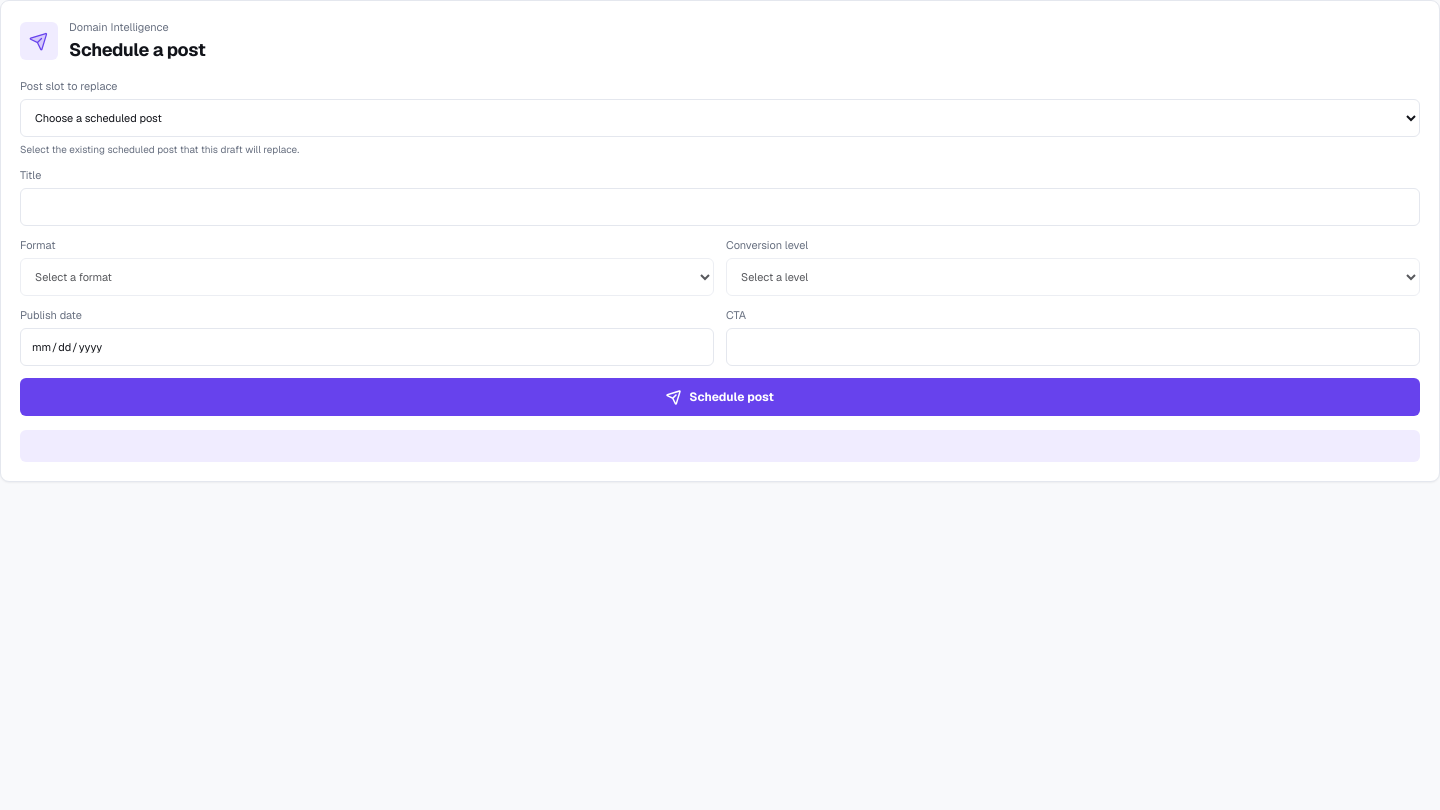
Test case: focuses an enabled recovery status when the final scheduled post becomes published
The image size is (1440, 810).
Select "Cycle 1 · Slot 1 · Aug 22, 2026 · Market Pulse: .com transfer signals" in the dropdown labelled "Post slot to replace" at (720, 118), box left=20, top=99, right=1420, bottom=137
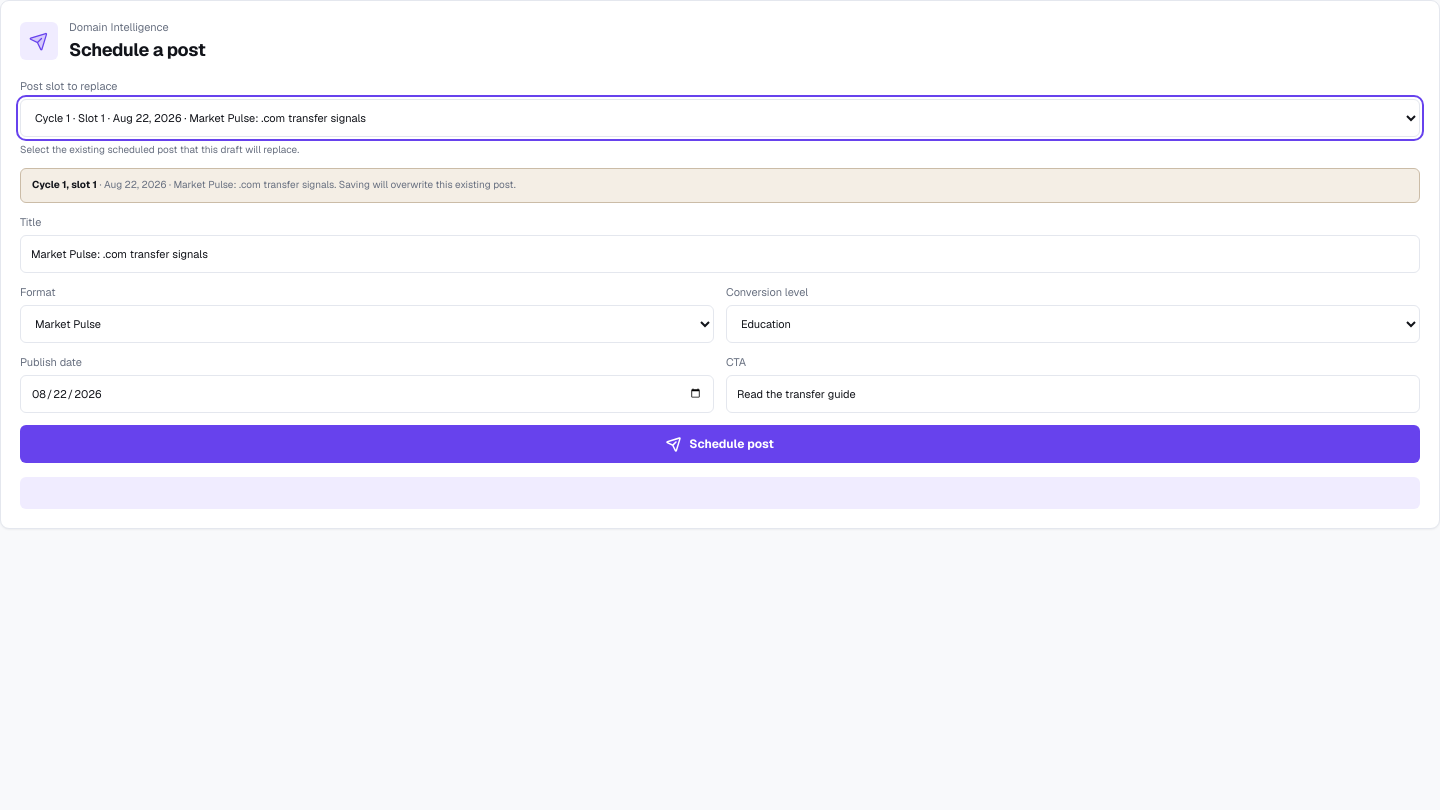
Replace the text in the field labelled "Title" with "Attempted final-slot replacement" at (720, 254), box left=20, top=234, right=1420, bottom=272
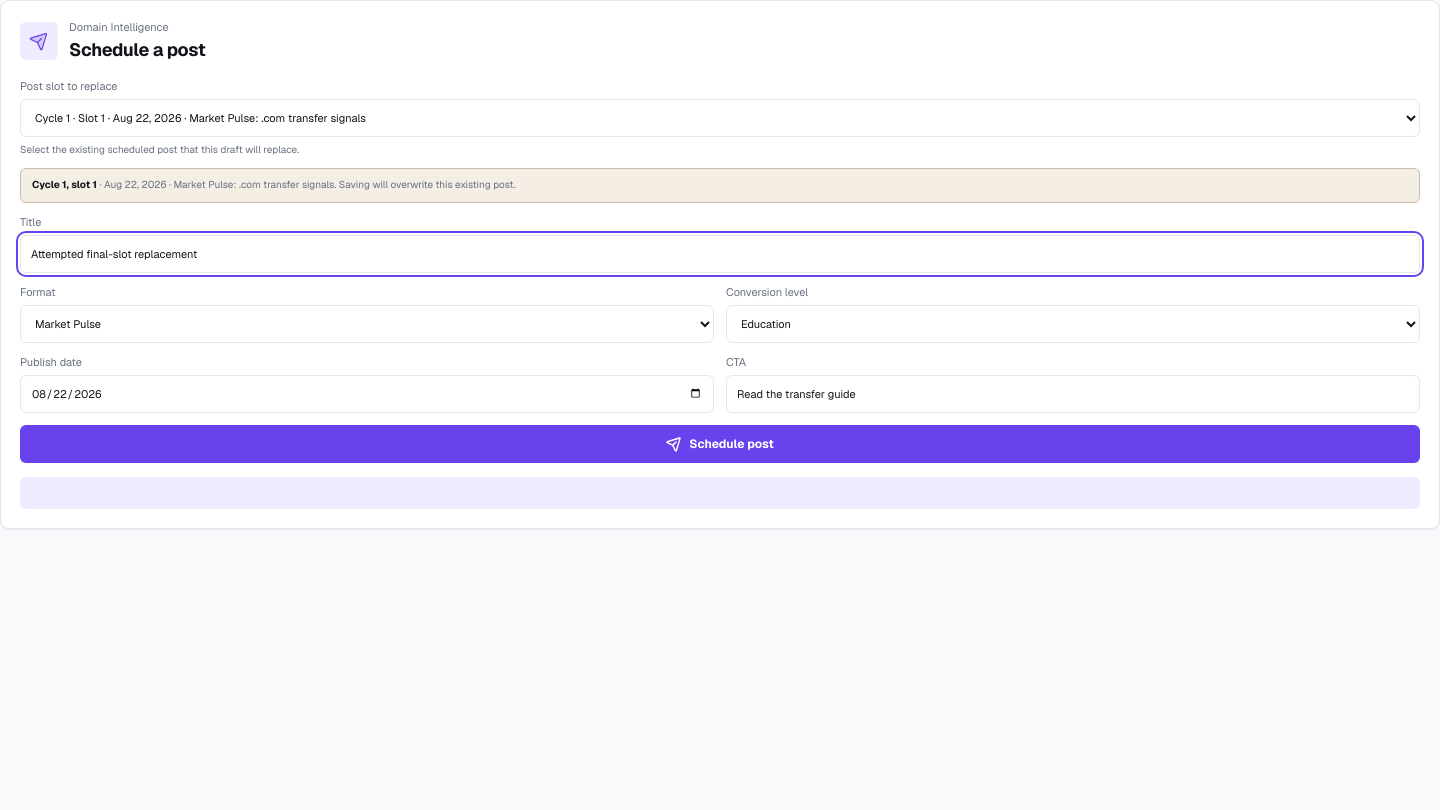
Click the button "Schedule post".
click(720, 444)  # box left=20, top=424, right=1420, bottom=462
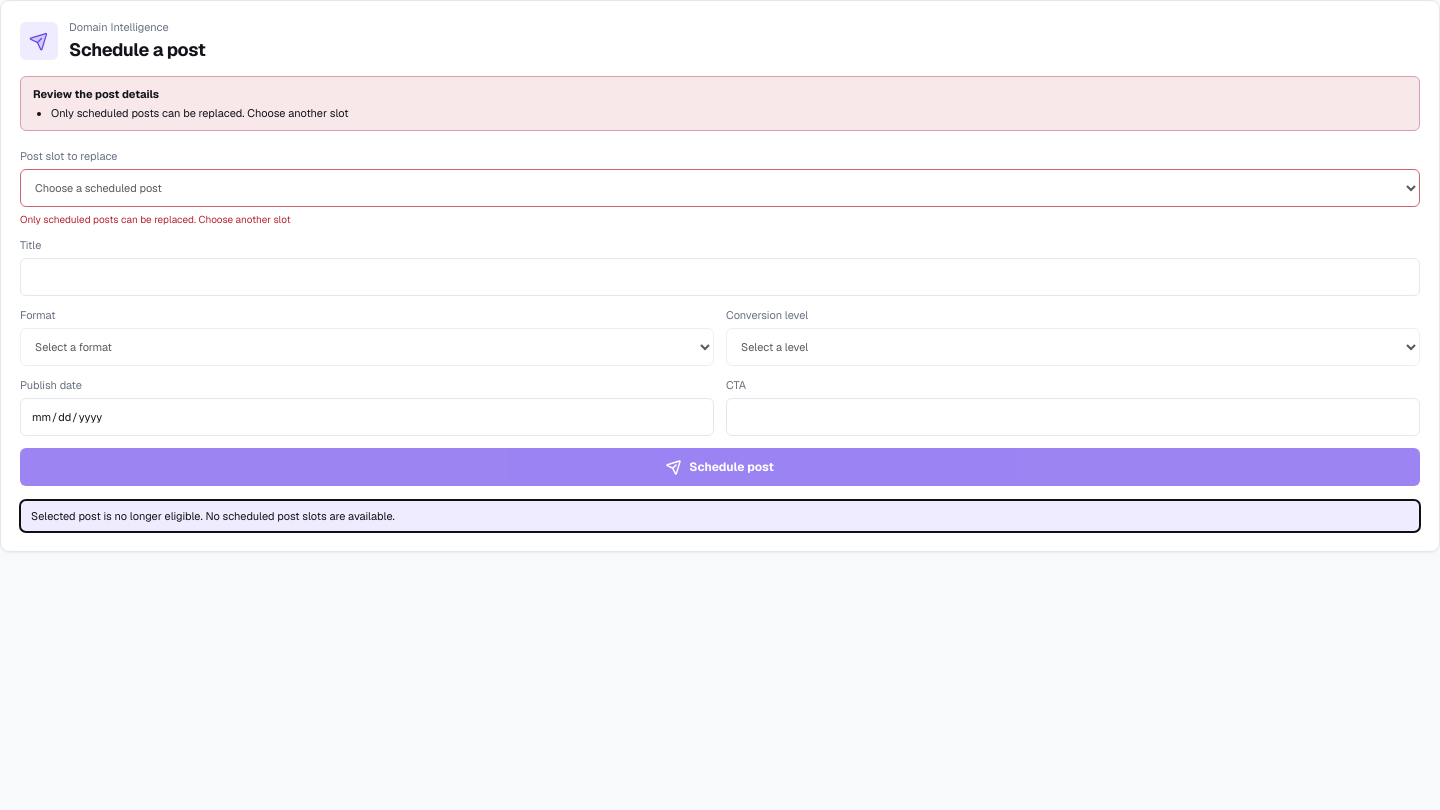
Result: the dropdown labelled "Post slot to replace" is disabled at left=20, top=169, right=1420, bottom=207
